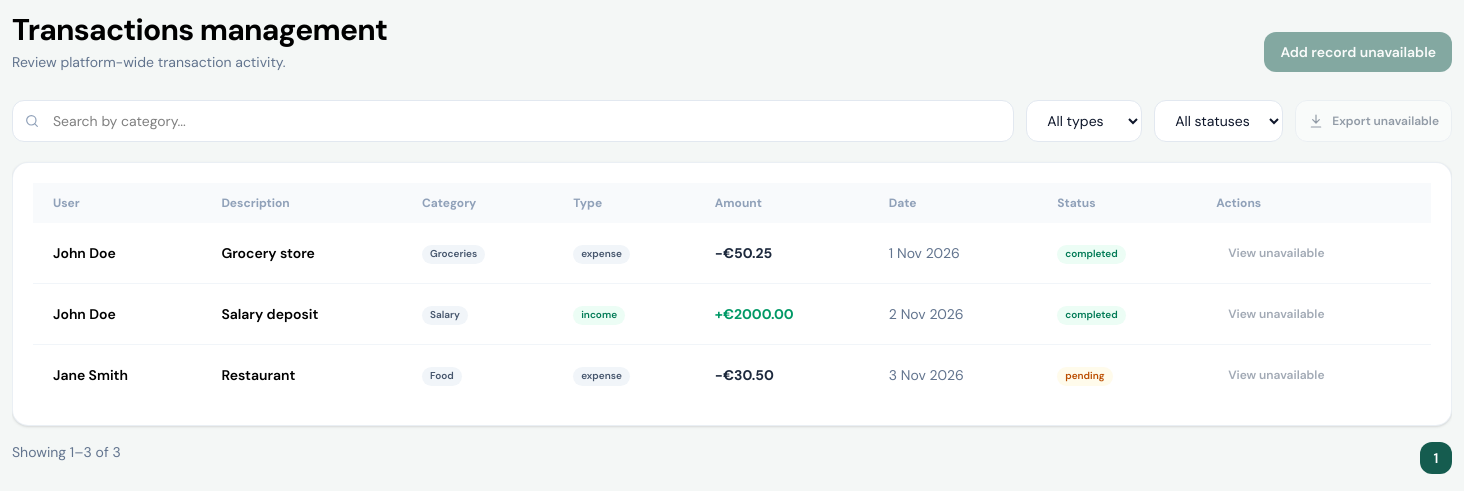
AdminTransactions › filters transactions by type (income)
expect the text "Grocery store" is shown: met, box x1=201 y1=223 x2=402 y2=284
Select "Income" in the dropdown named "Filter by transaction type": (1084, 121) x1=1026 y1=100 x2=1142 y2=142
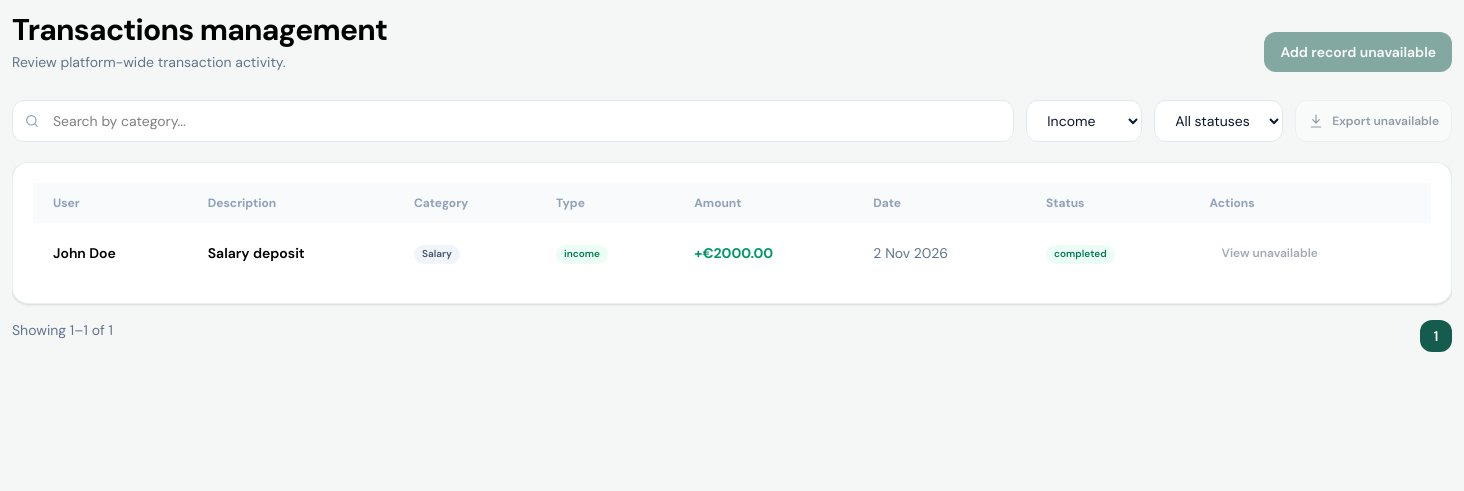
expect the text "Salary deposit" is shown: met, box x1=188 y1=223 x2=394 y2=283
expect the text "Grocery store" is gone: met
